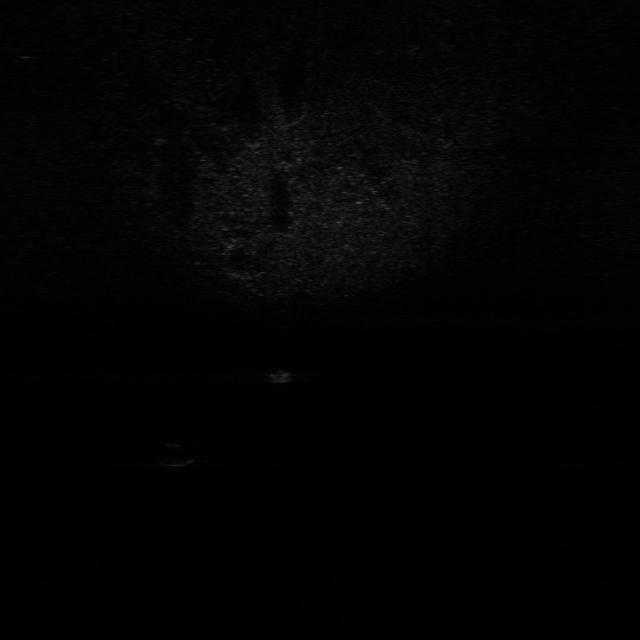ball: (160, 438, 198, 470)
cube: (264, 363, 294, 386)
